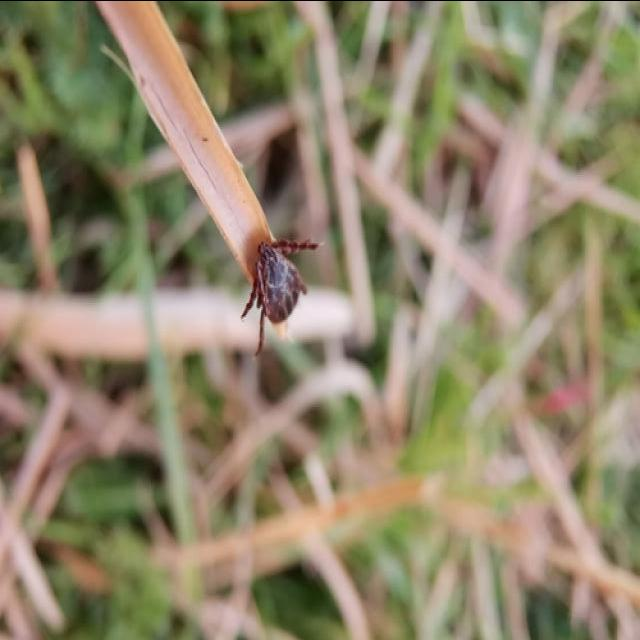Dermacentor Reticulatus-M: (239, 236, 317, 357)
